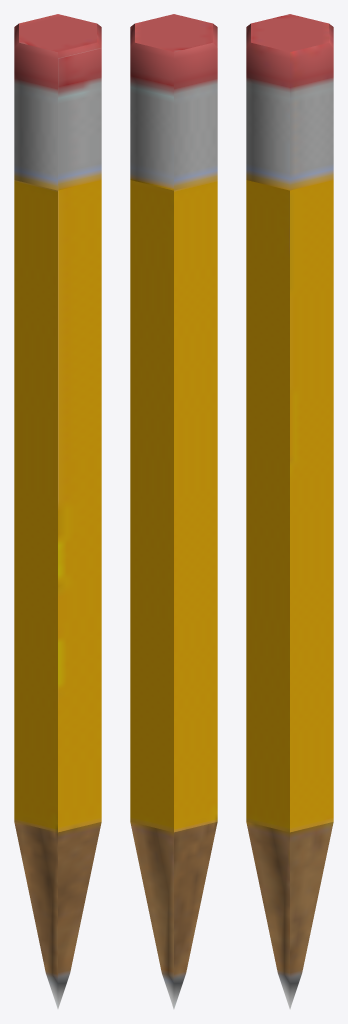
File: MeshCylinder_227_0.obj
3 views of the same model, side by side, from view 1: azimuth 90°, elevation 25°; view 2: azimuth 150°, elevation 25°; view 3: azimuth 330°, elevation 25° (orthographic).
Parts seen in each view (by area): view 1: Cylinder_227; view 2: Cylinder_227; view 3: Cylinder_227.
Part boxes in pixels (left/top/right/bottom): Cylinder_227: left=14, top=14, right=101, bottom=1008; Cylinder_227: left=130, top=14, right=217, bottom=1009; Cylinder_227: left=246, top=14, right=333, bottom=1009.
Size of the model in its own units: 0.008 by 0.0855 by 0.00693.
